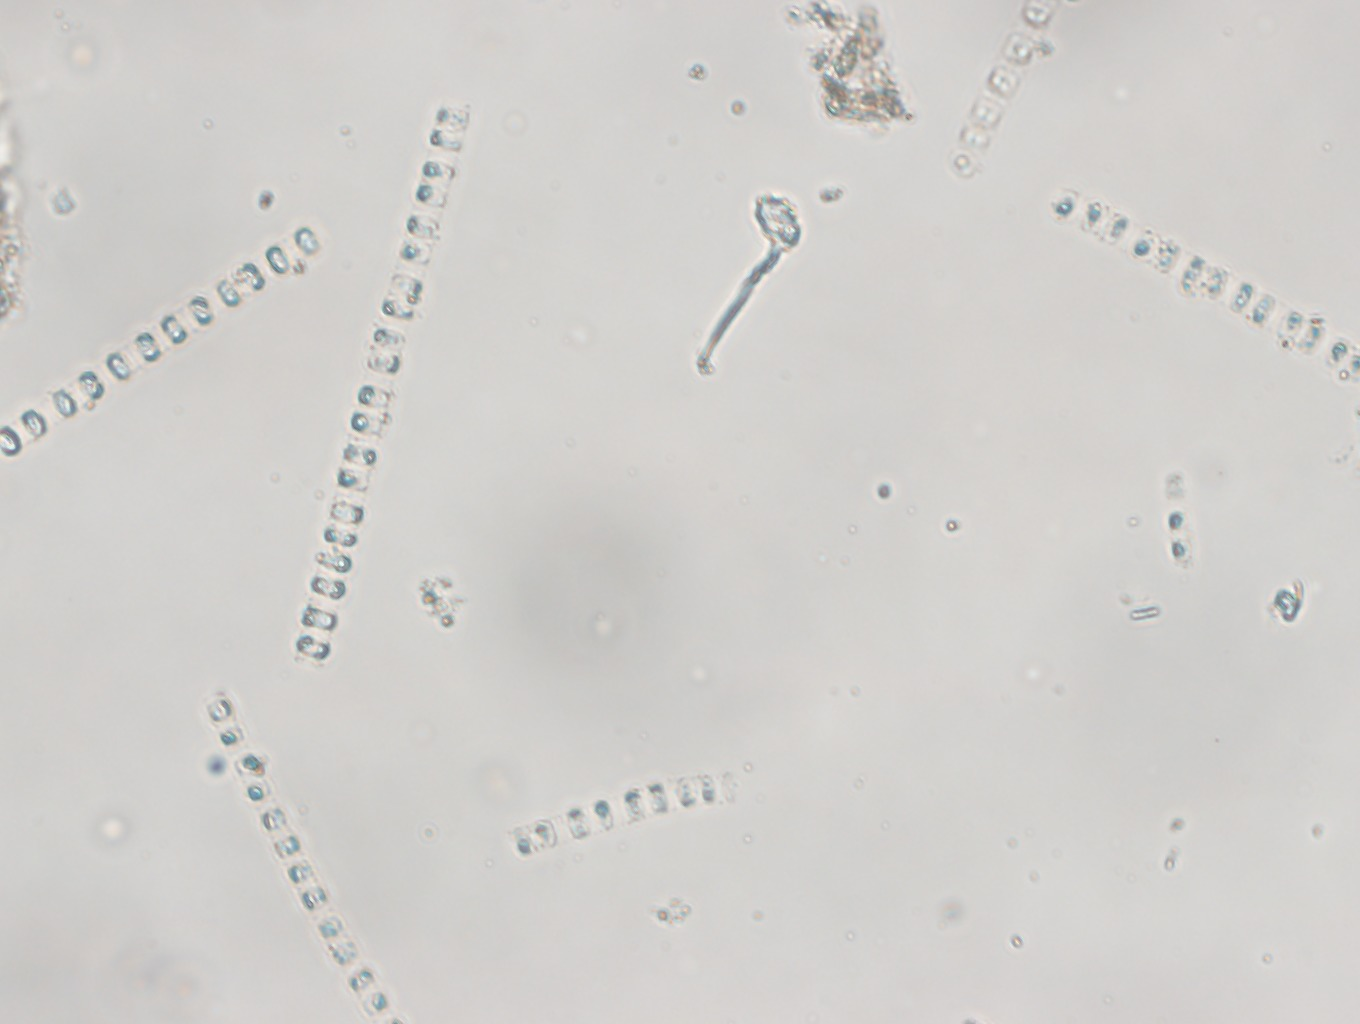skeletonema: (290, 99, 473, 666), (1, 219, 323, 461), (1047, 176, 1360, 392), (205, 695, 406, 1016), (506, 762, 749, 854), (937, 3, 1062, 174)
